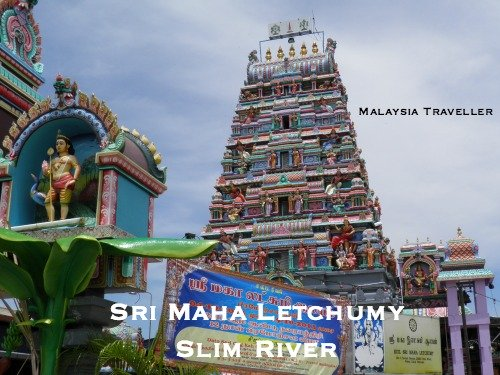Hindu Temple: (212, 23, 385, 297)
